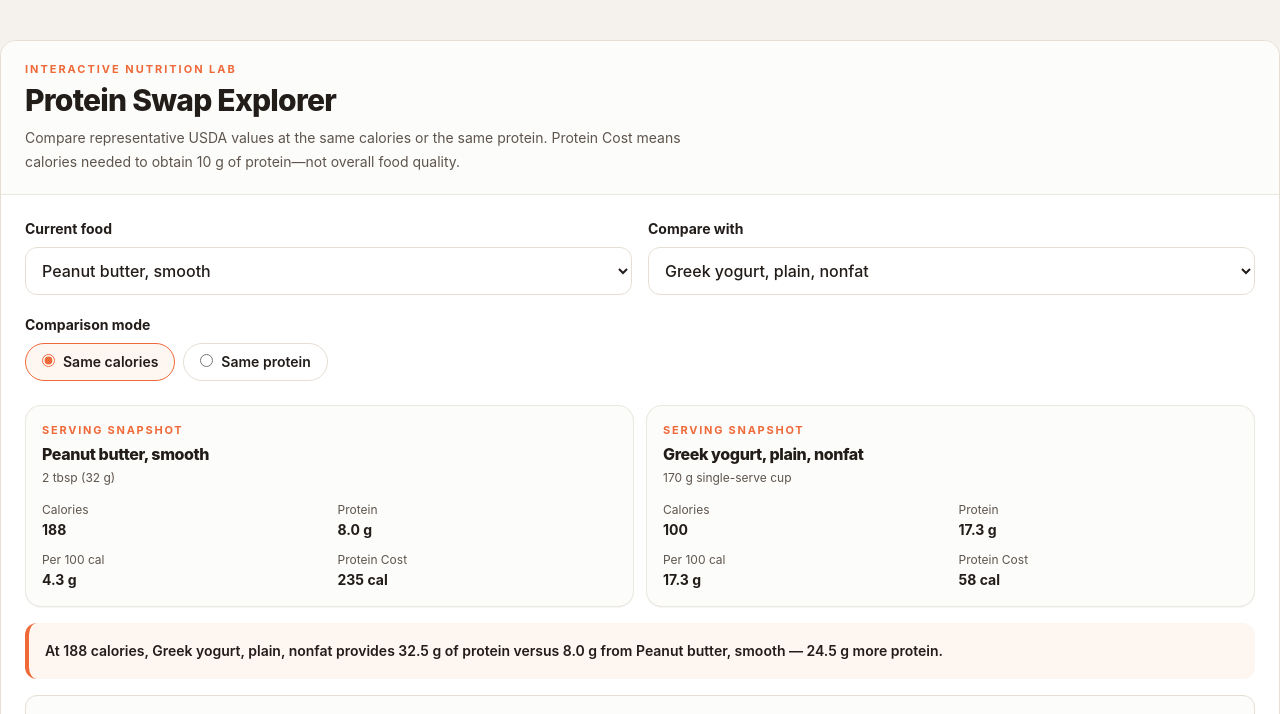
Test: ProteinSwapExplorer › rounds reader-facing calories and protein values without changing the canonical data
Select "Cooked bacon" in the dropdown labelled "Current food". click: (328, 270)
box: [25,246,632,294]
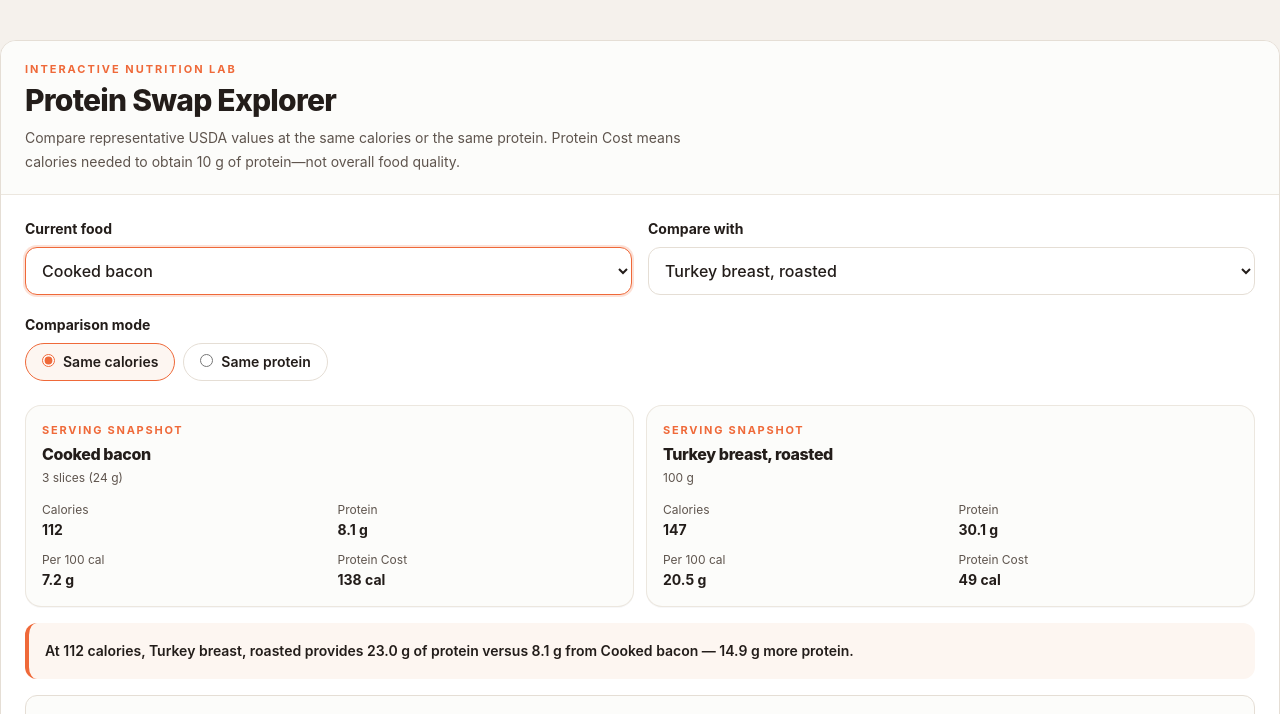
Now the message shows "At 112 calories", box [45,642,854,659]
Click the radio button labelled "Same protein". click: (207, 360)
box: [200,354,213,366]
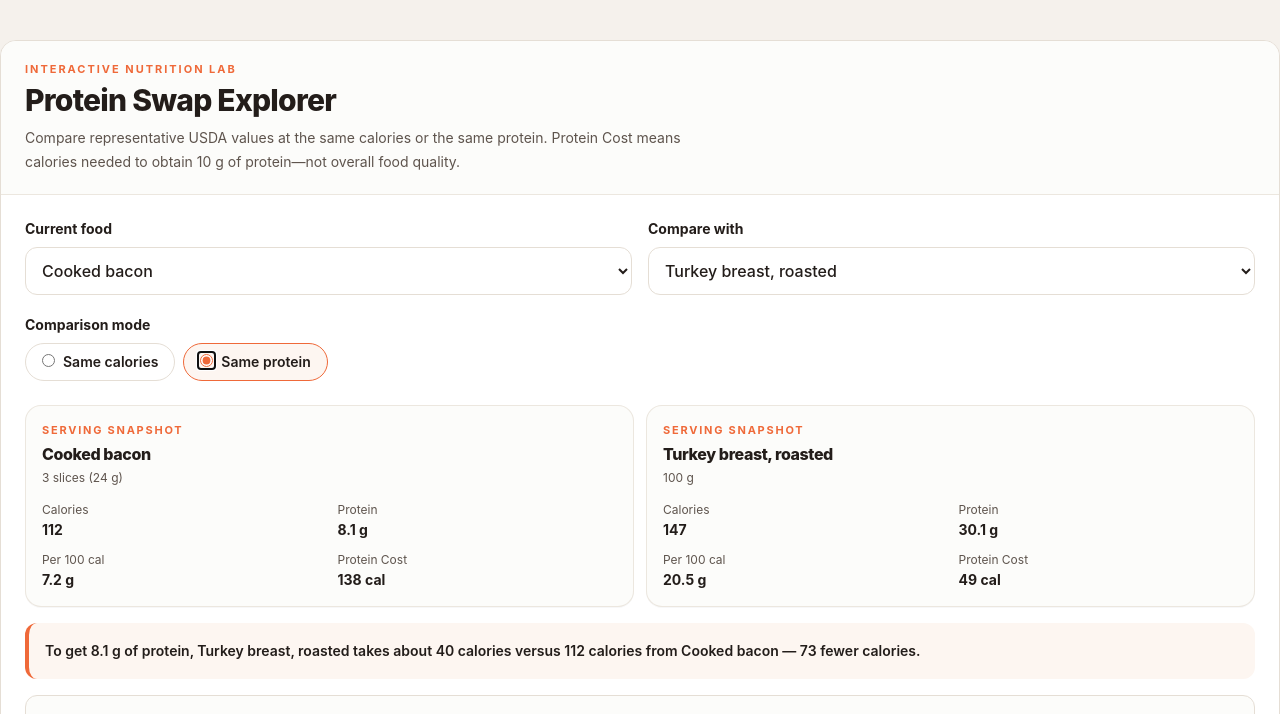
Select "Cheddar cheese" in the dropdown labelled "Current food". click: (328, 270)
box: [25,246,632,294]
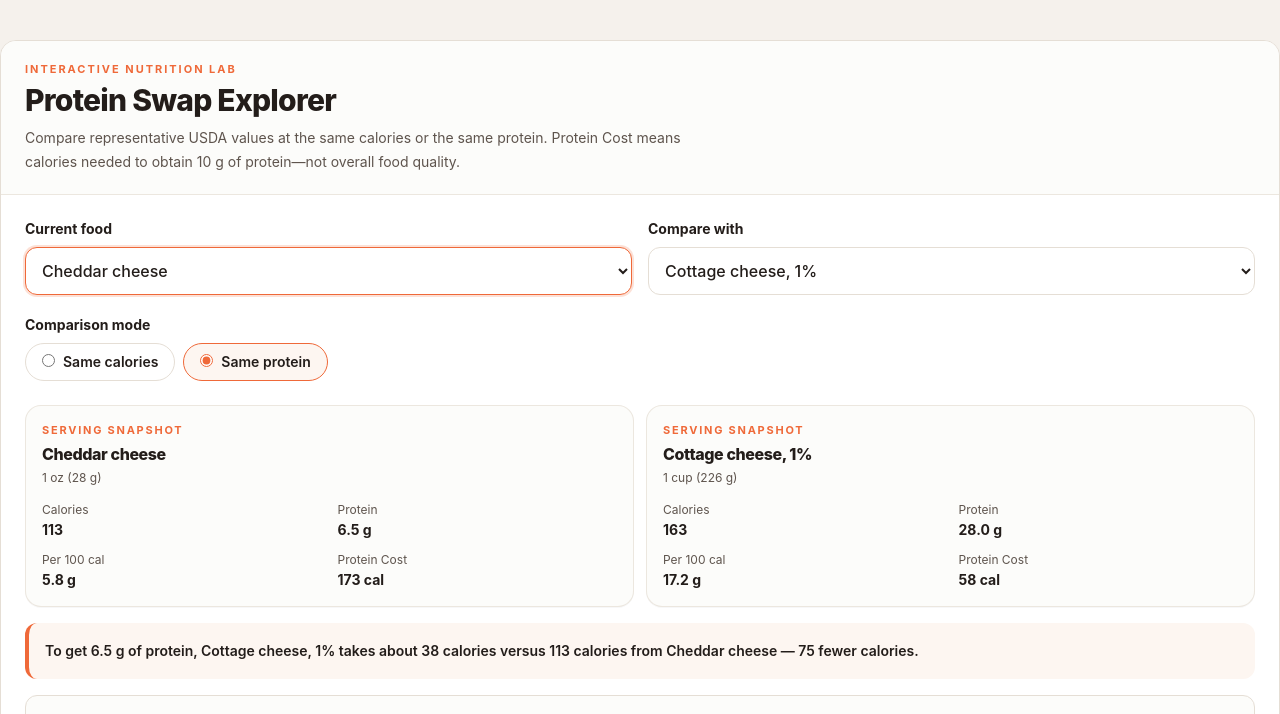
Now the message shows "To get 6.5 g of protein", box [45,642,919,659]
